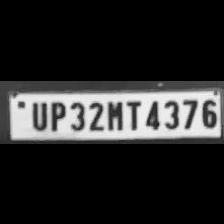2: (86, 97, 104, 130)
3: (160, 96, 180, 130), (66, 97, 86, 130)
4: (142, 96, 162, 130)
6: (198, 96, 218, 128)
7: (178, 96, 198, 128)
M: (104, 97, 124, 130)
P: (46, 98, 66, 130)
T: (124, 96, 142, 130)
U: (28, 98, 48, 130)
